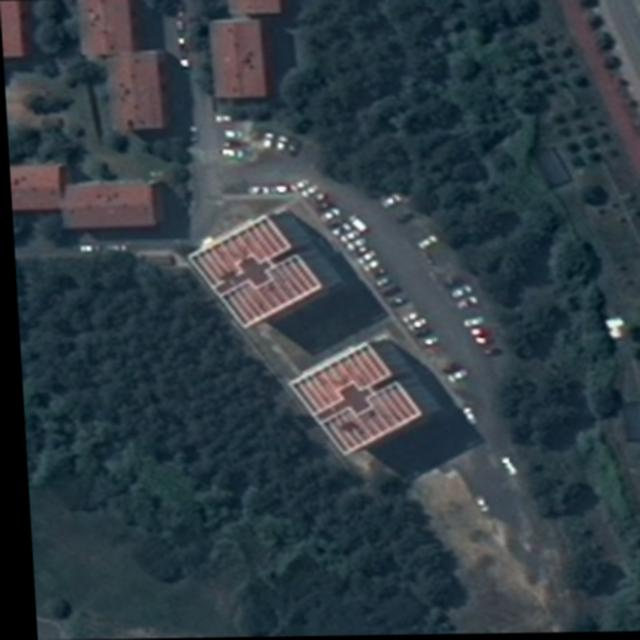Batiment: (185, 216, 318, 327), (286, 343, 416, 454), (108, 51, 188, 140), (209, 23, 265, 97), (80, 0, 132, 56), (228, 0, 281, 15)
